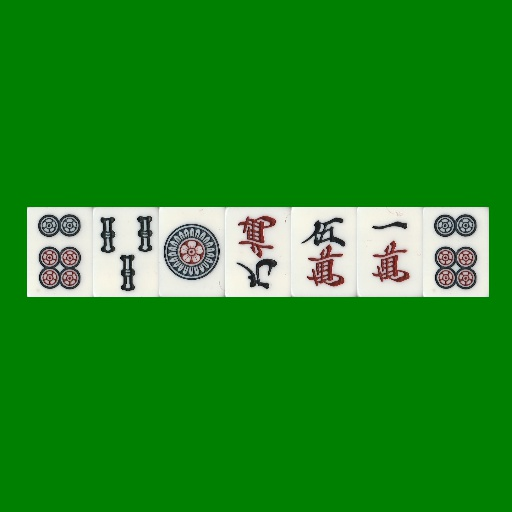1m: (357, 207, 423, 297)
1p: (159, 207, 225, 297)
3s: (93, 207, 159, 297)
5m: (291, 207, 357, 297)
6p: (27, 207, 93, 297), (423, 207, 489, 297)
9m: (225, 207, 291, 297)
